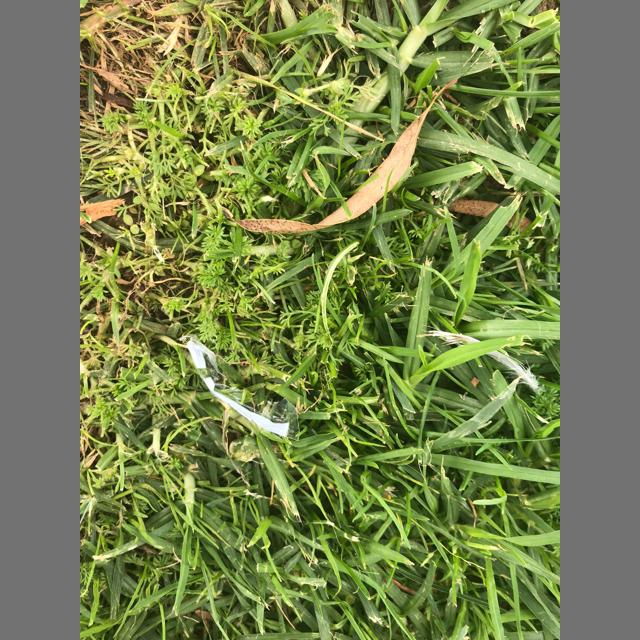litter: (180, 333, 300, 441)
